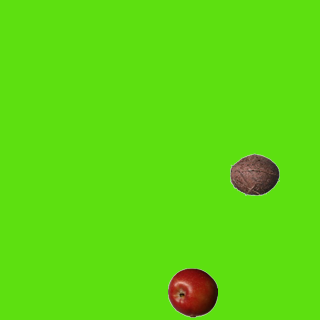Apple Braeburn: (167, 267, 217, 317)
Cocos: (229, 149, 279, 199)
